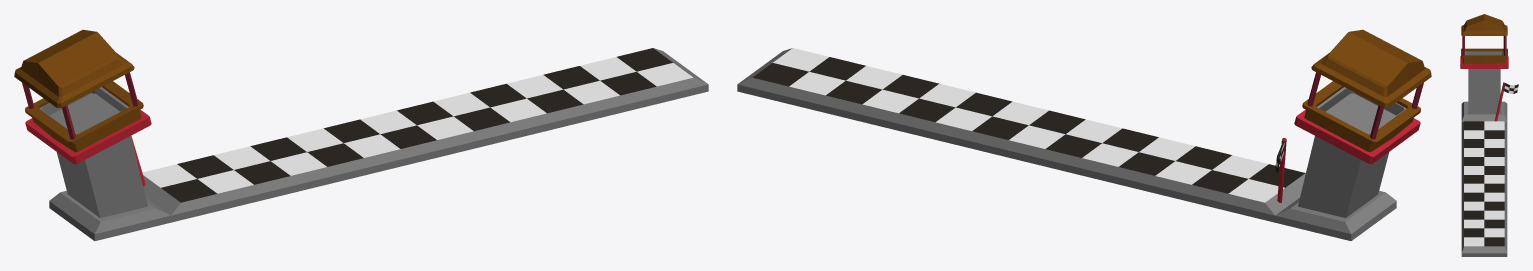
File: Prop_Goal_Ver2.obj
3 views of the same model, side by side, from view 1: azimuth 30°, elevation 25°; view 2: azimuth 150°, elevation 25°; view 3: azimuth 270°, elevation 25° (orthographic). The views are drawn at different scales.
Parts seen in each view (by area): view 1: Goalpost_Ver2.001; view 2: Goalpost_Ver2.001; view 3: Goalpost_Ver2.001.
Boxes of the visible parts, bbox=[...] form: Goalpost_Ver2.001: bbox=[14, 29, 708, 240]; Goalpost_Ver2.001: bbox=[737, 29, 1431, 240]; Goalpost_Ver2.001: bbox=[1460, 14, 1518, 256].
Size of the model in its own units: 14.88 by 4.08 by 2.32.
2 materials, 2 textured.
